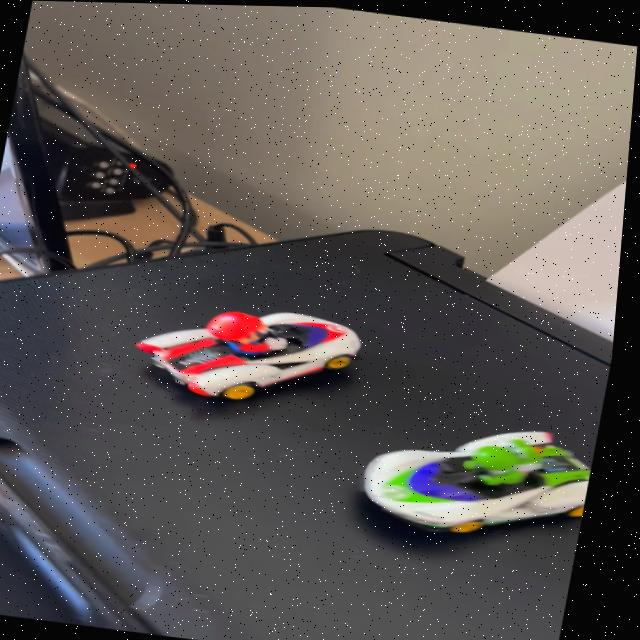mario: (113, 289, 392, 426)
yoshi: (349, 399, 606, 554)
